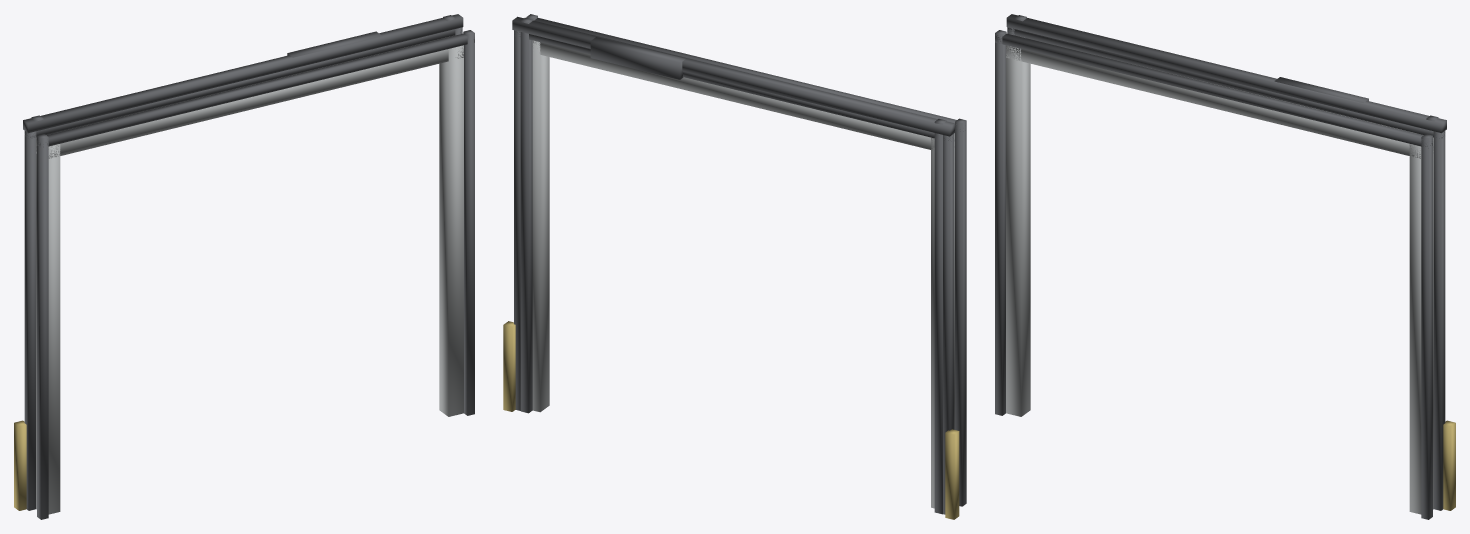
File: bay_opening_loading_bay_w480_h420_d20.glb
3 renders of one model, left to right at view 1: azimuth 30°, elevation 25°; view 2: azimuth 150°, elevation 25°; view 3: azimuth 330°, elevation 25°, orthographic.
Parts seen in each view (by area): view 1: world; view 2: world; view 3: world.
Part boxes in pixels (bbox=[...]): world: bbox=[14, 14, 474, 519]; world: bbox=[503, 14, 966, 519]; world: bbox=[995, 14, 1455, 519].
Size of the model in its own units: 5.54 by 4.59 by 0.422.
